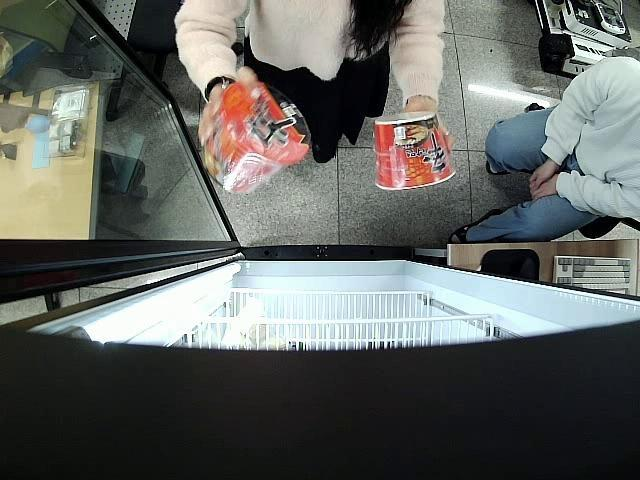01_ShinRamen_L: (200, 78, 312, 195), (372, 110, 460, 192)
